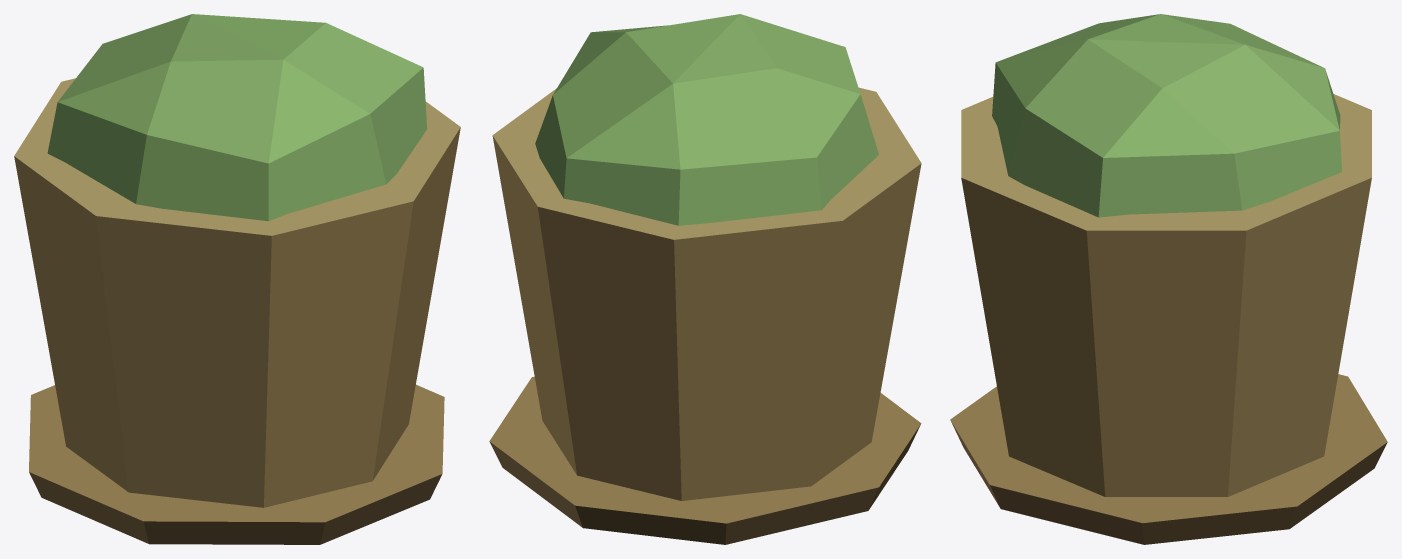
Rendered from vegetation_006.fbx.
3 views of the same model, side by side, from view 1: azimuth 30°, elevation 25°; view 2: azimuth 150°, elevation 25°; view 3: azimuth 270°, elevation 25° (orthographic). The views are drawn at different scales.
Visible parts, largest first — view 1: vegetation_006; view 2: vegetation_006; view 3: vegetation_006.
Part boxes in pixels (box(x1,y1,x2,y2)): vegetation_006: box(14, 14, 460, 544); vegetation_006: box(489, 14, 921, 544); vegetation_006: box(950, 14, 1387, 544).
Size of the model in its own units: 76.62 by 81.37 by 76.62.
